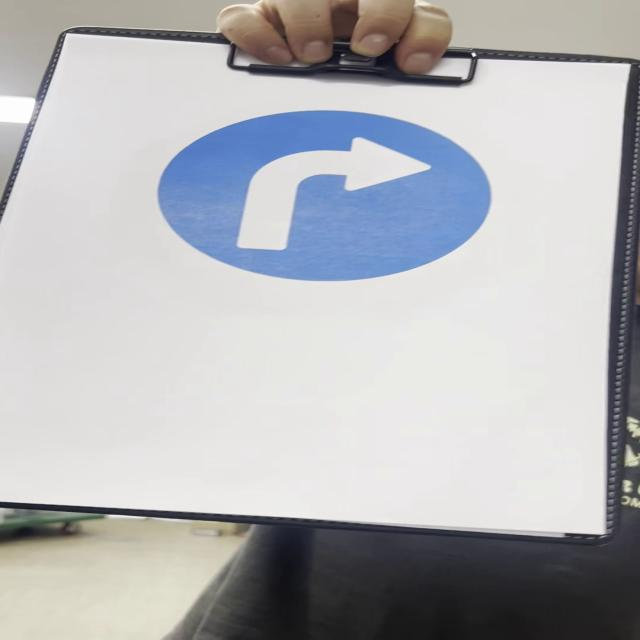right: (161, 112, 493, 281)
